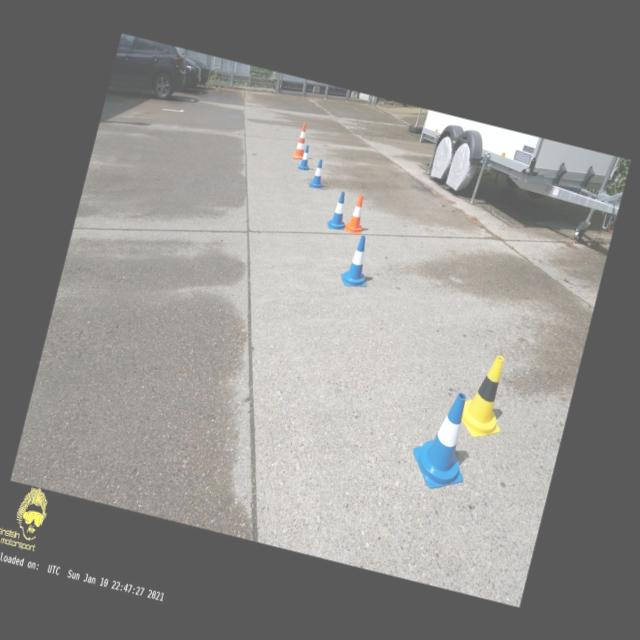blue_cone: (404, 384, 482, 495), (338, 233, 377, 291), (326, 188, 352, 232), (308, 157, 328, 190), (297, 144, 314, 172)
large_orange_cone: (292, 122, 310, 160)
orange_cone: (343, 192, 370, 236)
yellow_cone: (457, 350, 518, 442)
